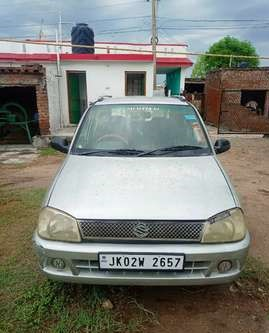JK02W2657: (100, 253, 183, 270)
